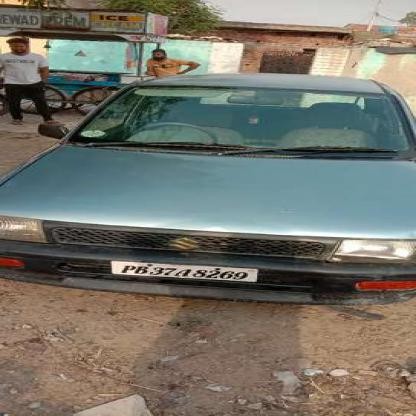license_plate: (108, 259, 256, 283)
